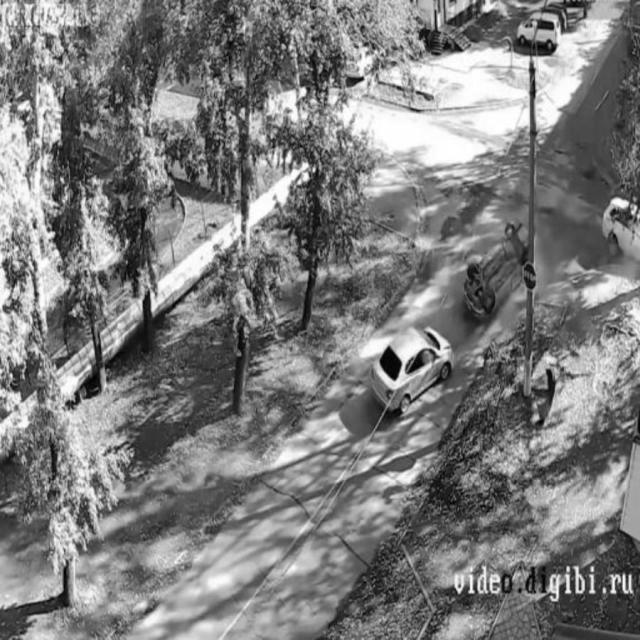vehicle: (370, 312, 458, 412), (460, 215, 530, 323), (603, 178, 640, 260), (514, 3, 564, 54)
